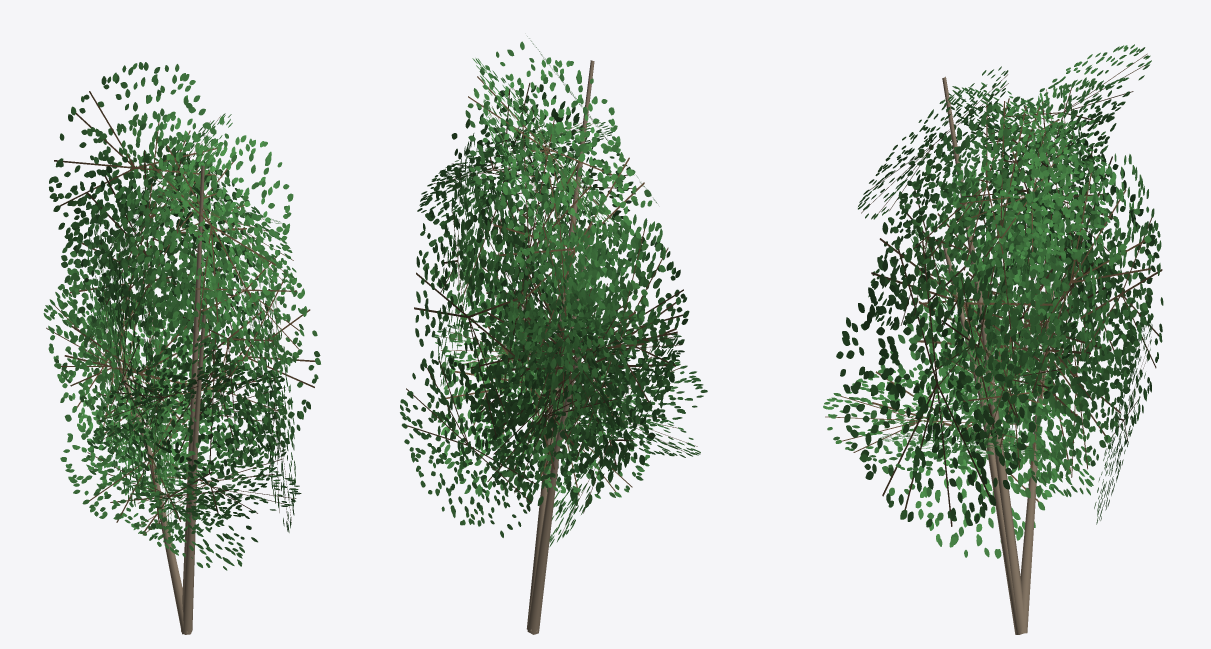
The model's file is buxus-sempervirens.glb.
The picture shows the model from 3 angles, left to right: view 1: azimuth 30°, elevation 25°; view 2: azimuth 150°, elevation 25°; view 3: azimuth 270°, elevation 25°; orthographic projection. The views are drawn at different scales.
Parts seen in each view (by area): view 1: folhas, galhos; view 2: folhas, galhos; view 3: folhas, galhos.
Boxes of the visible parts, left/top/right/bottom form: folhas: left=43, top=62, right=320, bottom=570; galhos: left=112, top=165, right=205, bottom=634; folhas: left=400, top=36, right=707, bottom=547; galhos: left=526, top=60, right=594, bottom=634; folhas: left=823, top=44, right=1163, bottom=558; galhos: left=942, top=76, right=1054, bottom=634.
Bounding box in the file's own units: 0.5089 × 1 × 0.6.
2 materials, 1 textured.
